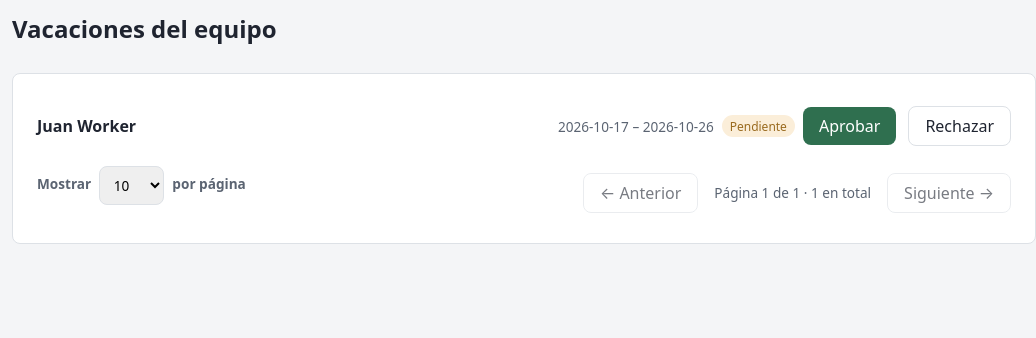
Test: SupervisorVacations › usa un mensaje genérico si el error al aprobar no es un ApiError
Check: the text "Juan Worker" is shown, box [37,115,136,137]
Click the button "Aprobar" at (850, 126), box [803,107,896,145]
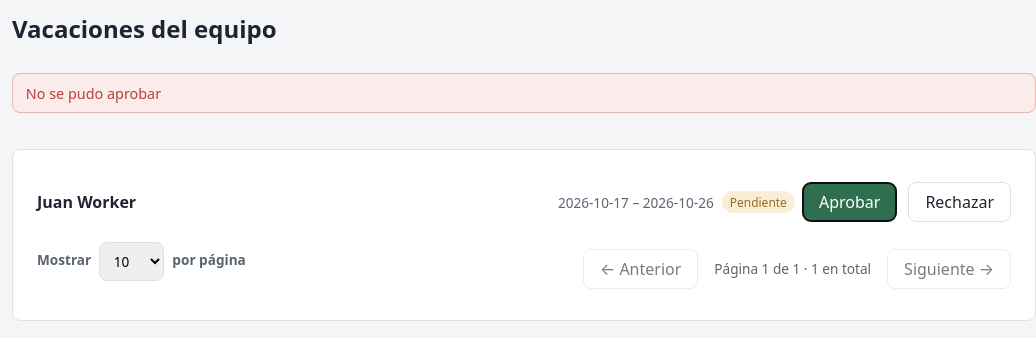
Check: the text "No se pudo aprobar" is shown, box [12,73,1035,113]
